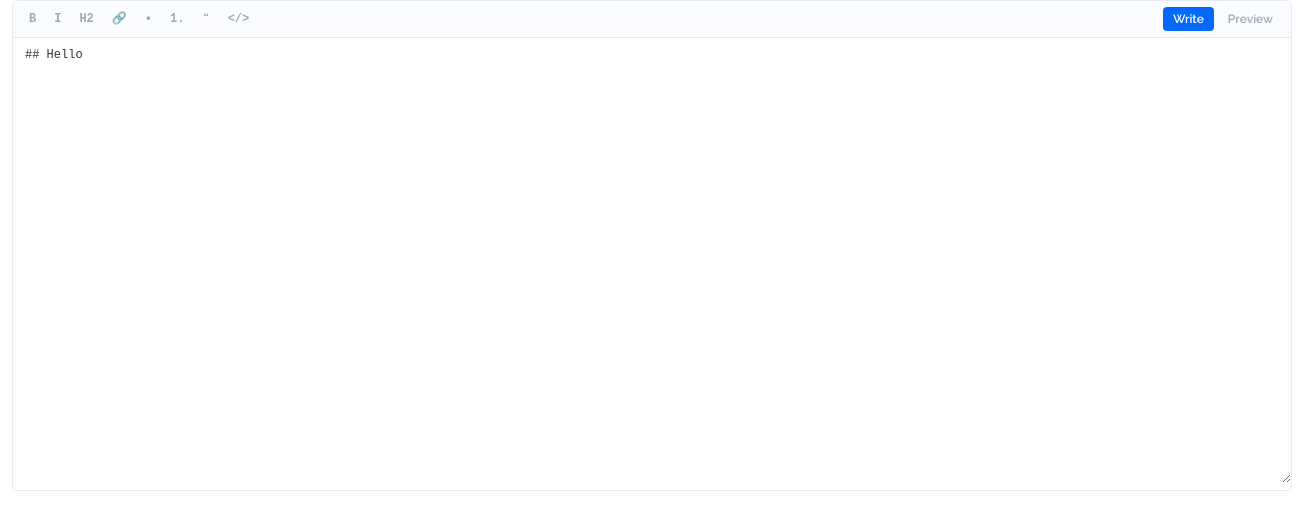
Test: MarkdownEditor › renders the markdown in preview and keeps the form control around
Step 1. Click the button with test id "md-preview" → (1250, 19), box [1218,7,1283,31]
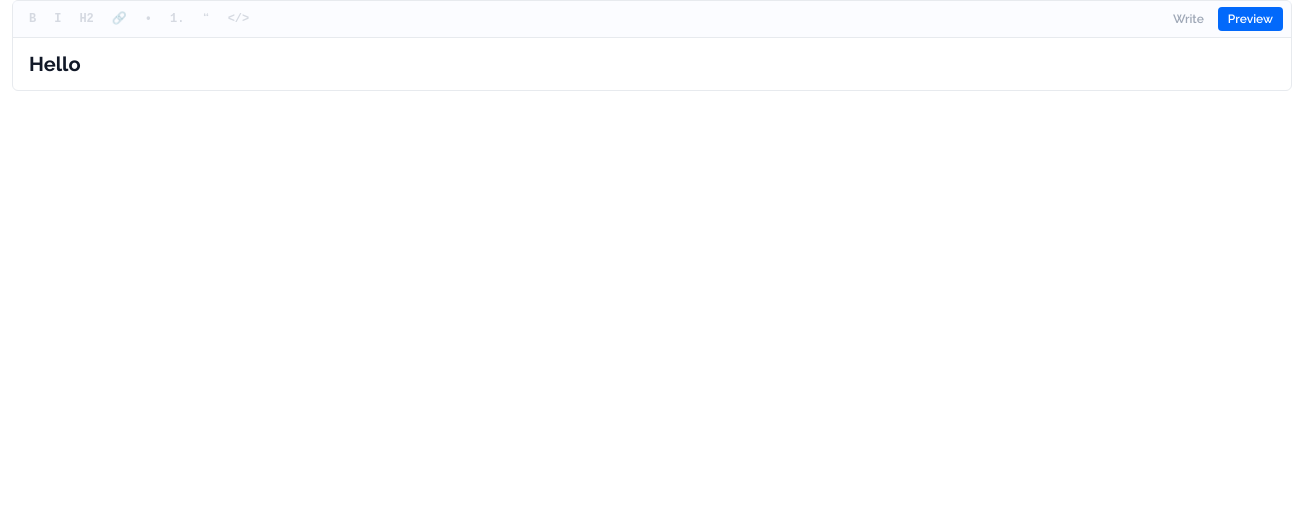
Expected: the heading "Hello" is shown, [29,52,80,76]
